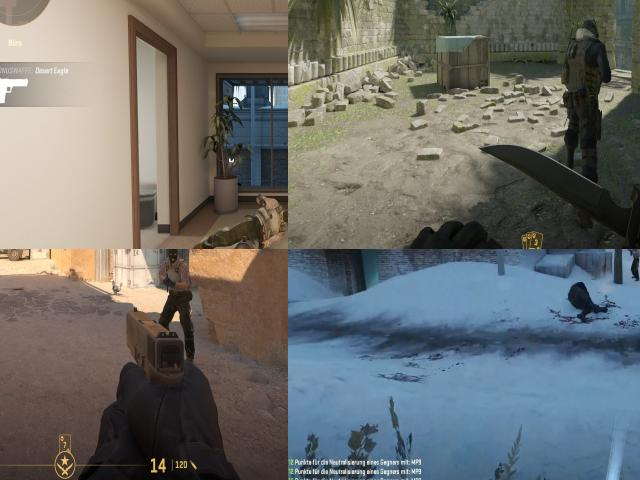CT-Head: (556, 12, 602, 181), (576, 16, 601, 46)
Dead: (206, 197, 288, 249), (563, 281, 608, 328)
T: (165, 249, 186, 339), (628, 249, 640, 265)
T-Head: (168, 249, 179, 262), (629, 249, 638, 252)
